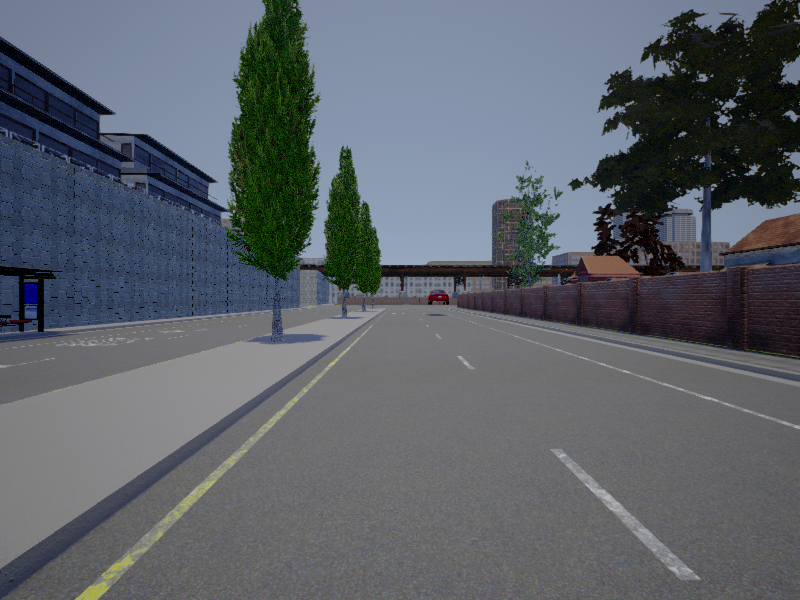Attacker: (427, 289, 451, 306)
